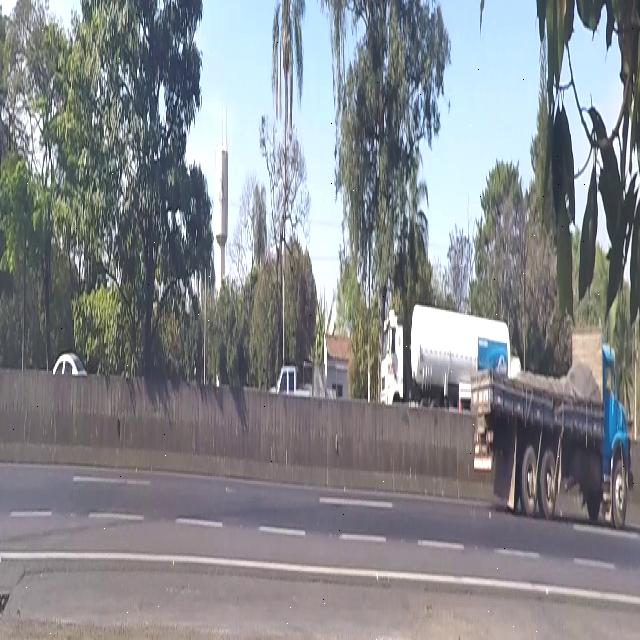-axle: (520, 446, 540, 528), (610, 452, 630, 534), (542, 436, 557, 523)
